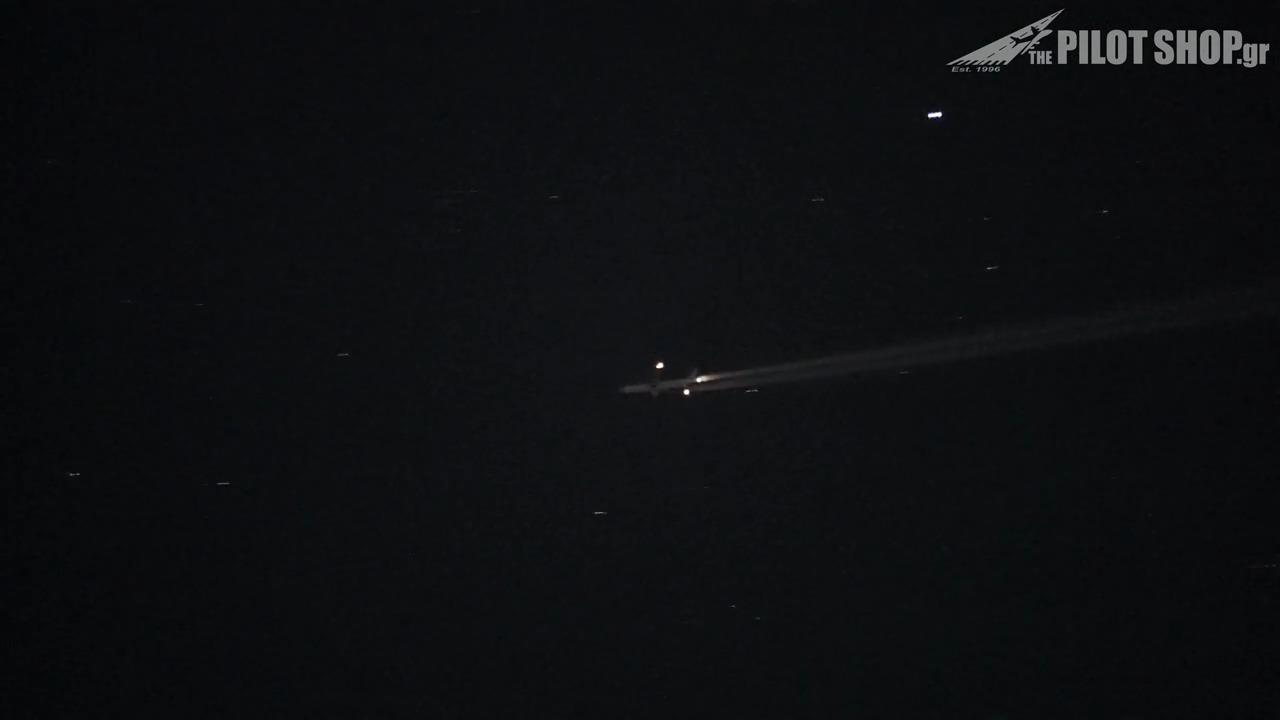Plane: (567, 350, 818, 414)
